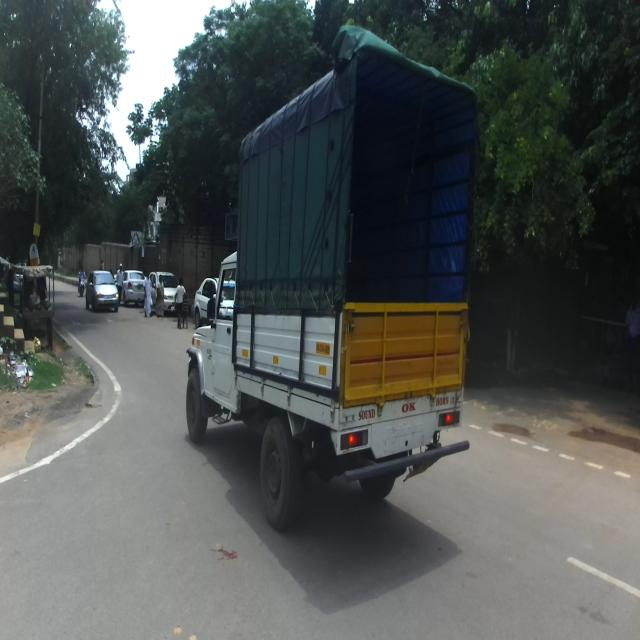truck ahead at: (187, 34, 475, 507)
